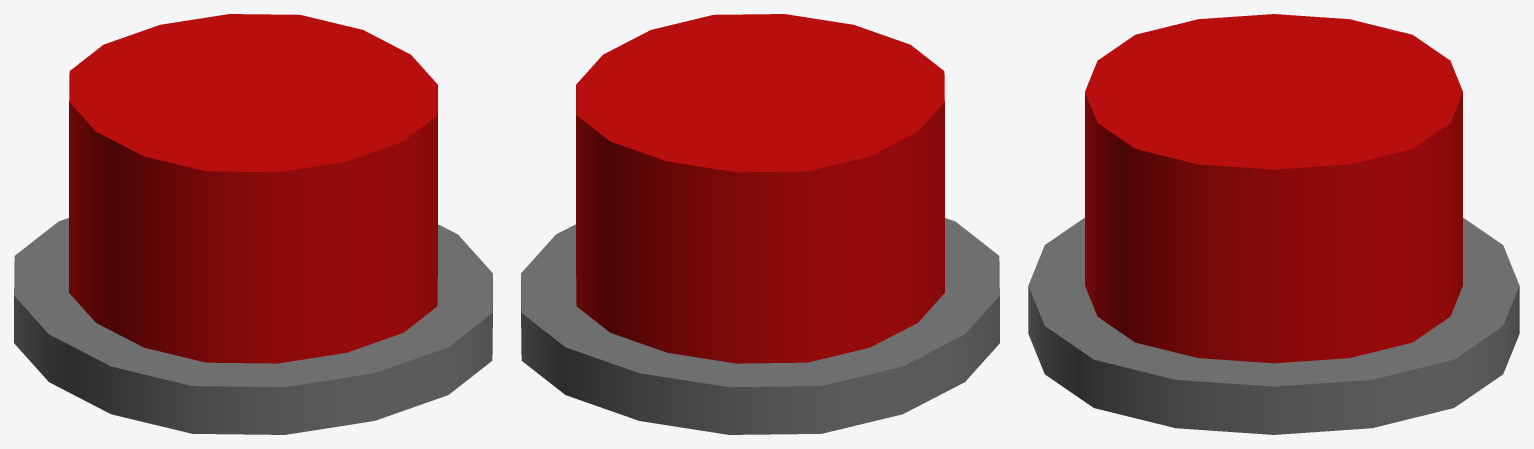
File: Button.fbx
3 renders of one model, left to right at view 1: azimuth 30°, elevation 25°; view 2: azimuth 150°, elevation 25°; view 3: azimuth 270°, elevation 25°, orthographic.
Visible parts, largest first — view 1: BUTTON, BASE; view 2: BUTTON, BASE; view 3: BUTTON, BASE.
Boxes of the visible parts, x1,y1,x2,y2 form: BUTTON: (69, 14, 437, 363); BASE: (14, 218, 492, 434); BUTTON: (576, 14, 944, 363); BASE: (521, 218, 999, 434); BUTTON: (1085, 14, 1462, 363); BASE: (1028, 218, 1519, 434).
Size of the model in its own units: 2831 by 1580 by 2906.
